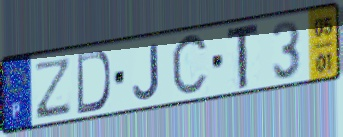3: (270, 18, 303, 81)
C: (169, 29, 211, 102)
D: (75, 49, 113, 116)
J: (131, 42, 161, 102)
T: (225, 20, 261, 93)
Z: (33, 55, 74, 122)
